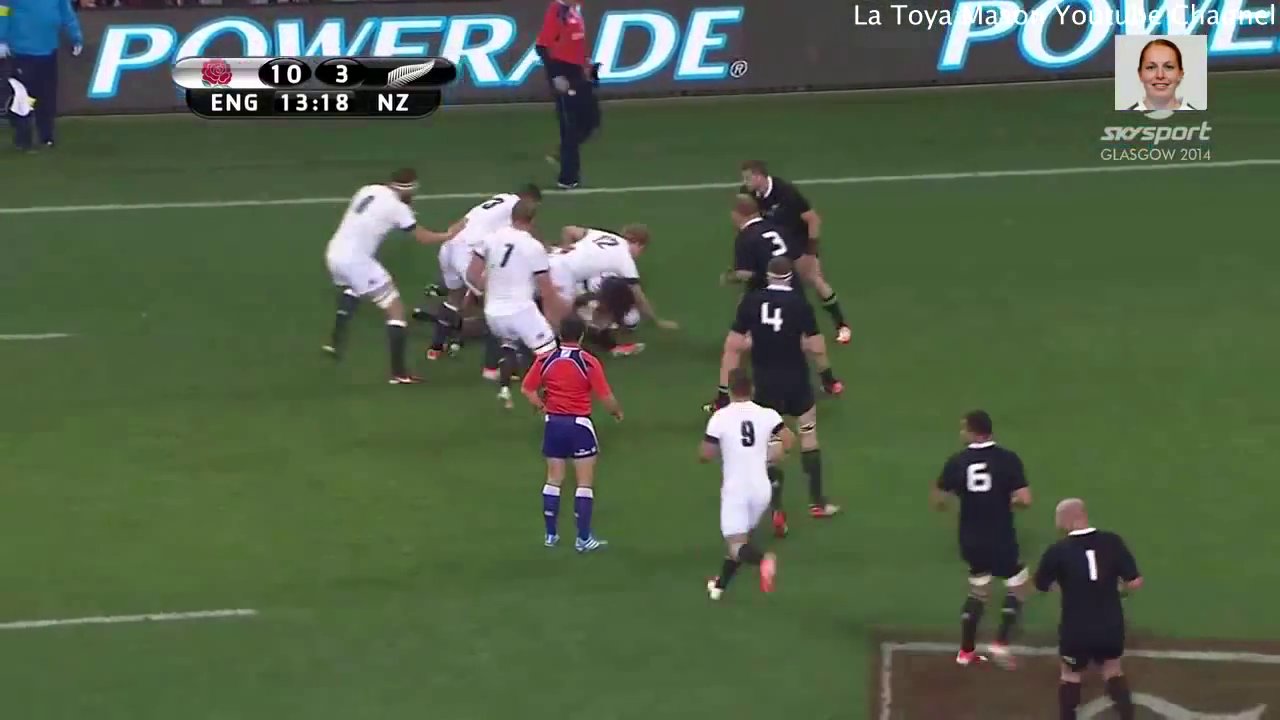player: (721, 257, 841, 532), (308, 158, 443, 397), (935, 410, 1043, 683), (729, 155, 864, 355), (1027, 491, 1143, 720), (520, 318, 611, 564), (702, 369, 787, 609), (475, 190, 552, 421), (441, 176, 543, 349), (546, 209, 662, 298), (714, 186, 793, 305)
ruck: (415, 189, 668, 378)
